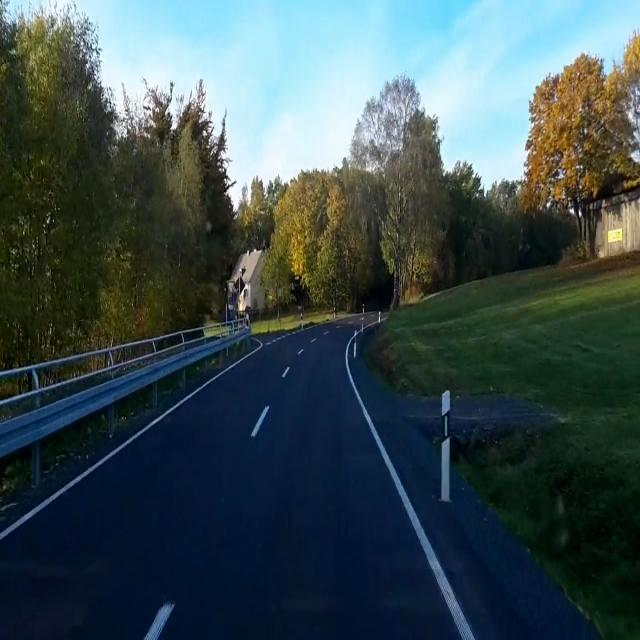lane: (1, 339, 262, 541), (344, 331, 476, 640), (169, 344, 262, 413), (144, 601, 175, 639), (250, 405, 269, 437)
road: (0, 320, 460, 639), (350, 359, 597, 639)
